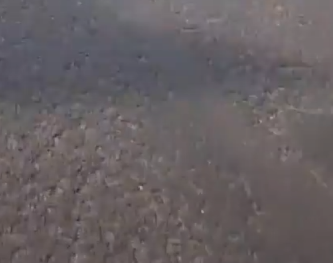Retak Buaya: (1, 51, 199, 263), (199, 18, 333, 145)
